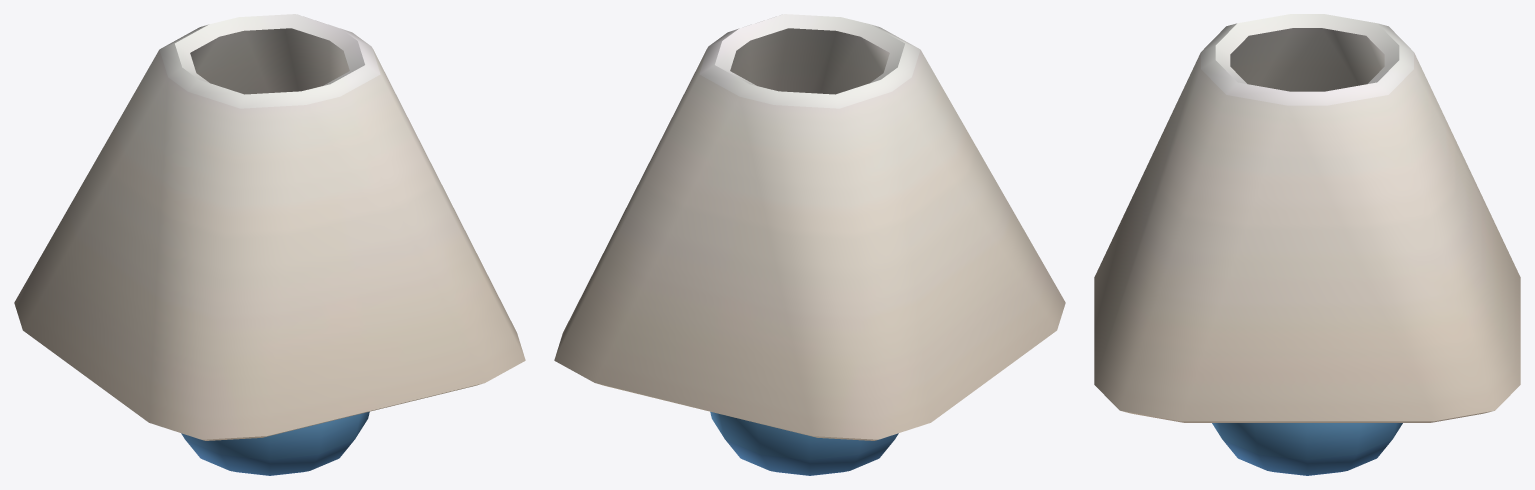
The model's file is table-lamp-v1.glb.
The picture shows the model from 3 angles, left to right: view 1: azimuth 30°, elevation 25°; view 2: azimuth 150°, elevation 25°; view 3: azimuth 270°, elevation 25°; orthographic projection.
Visible parts, largest first — view 1: lamp_table; view 2: lamp_table; view 3: lamp_table.
Part boxes in pixels (x1,y1,x2,y2): lamp_table: (14, 14, 525, 475); lamp_table: (554, 14, 1065, 475); lamp_table: (1094, 14, 1520, 475).
Bounding box in the file's own units: 0.3328 × 0.34 × 0.3328.
Materials: 1 (1 with a texture image).
